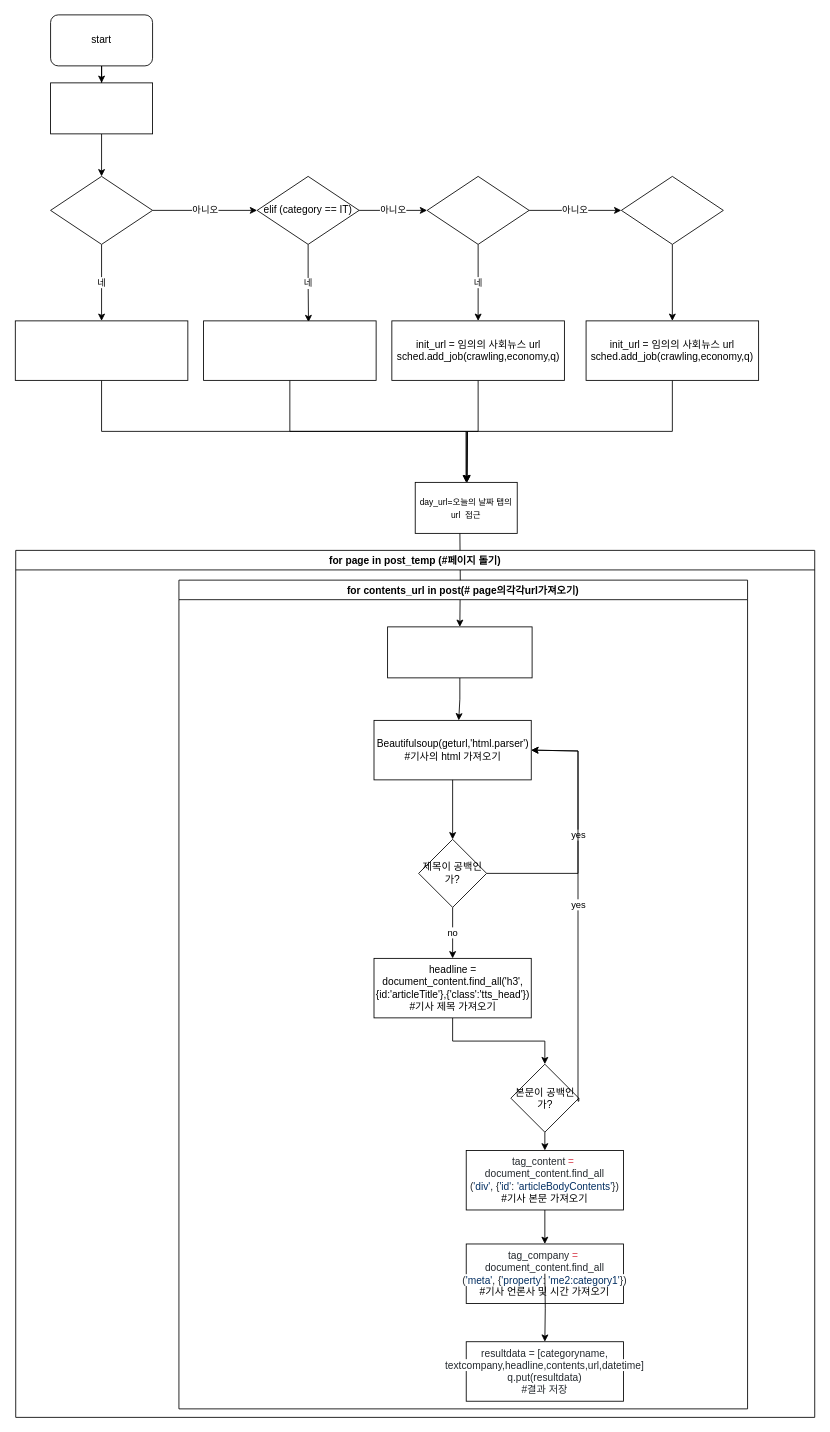
Some shapes in this 830 by 1432 pixel diagram are drawn without their labels. Here are the shapes that lost their labels. From the top down, the centre of each, then its label:
pixel 101 108: sched.start() #스케줄러시작
pixel 101 210: if (category == economy)
pixel 477 210: elif (category == society)
pixel 671 210: elif (category == politics)
pixel 101 350: init_url = 임의의 경제뉴스 url sched.add_job(crawling,economy,q)
pixel 289 350: init_url = 임의의 IT뉴스 url sched.add_job(crawling,economy,q)
pixel 459 652: 각 페이지에 있는 20개의 기사들 url 리스트에 저장
